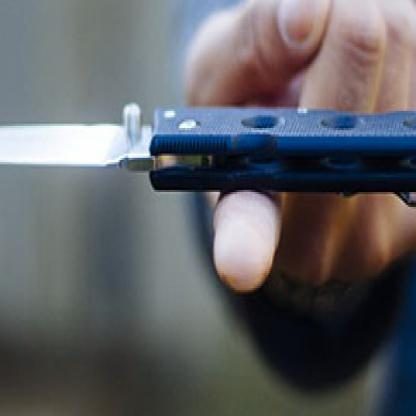knife: (0, 0, 337, 305)
